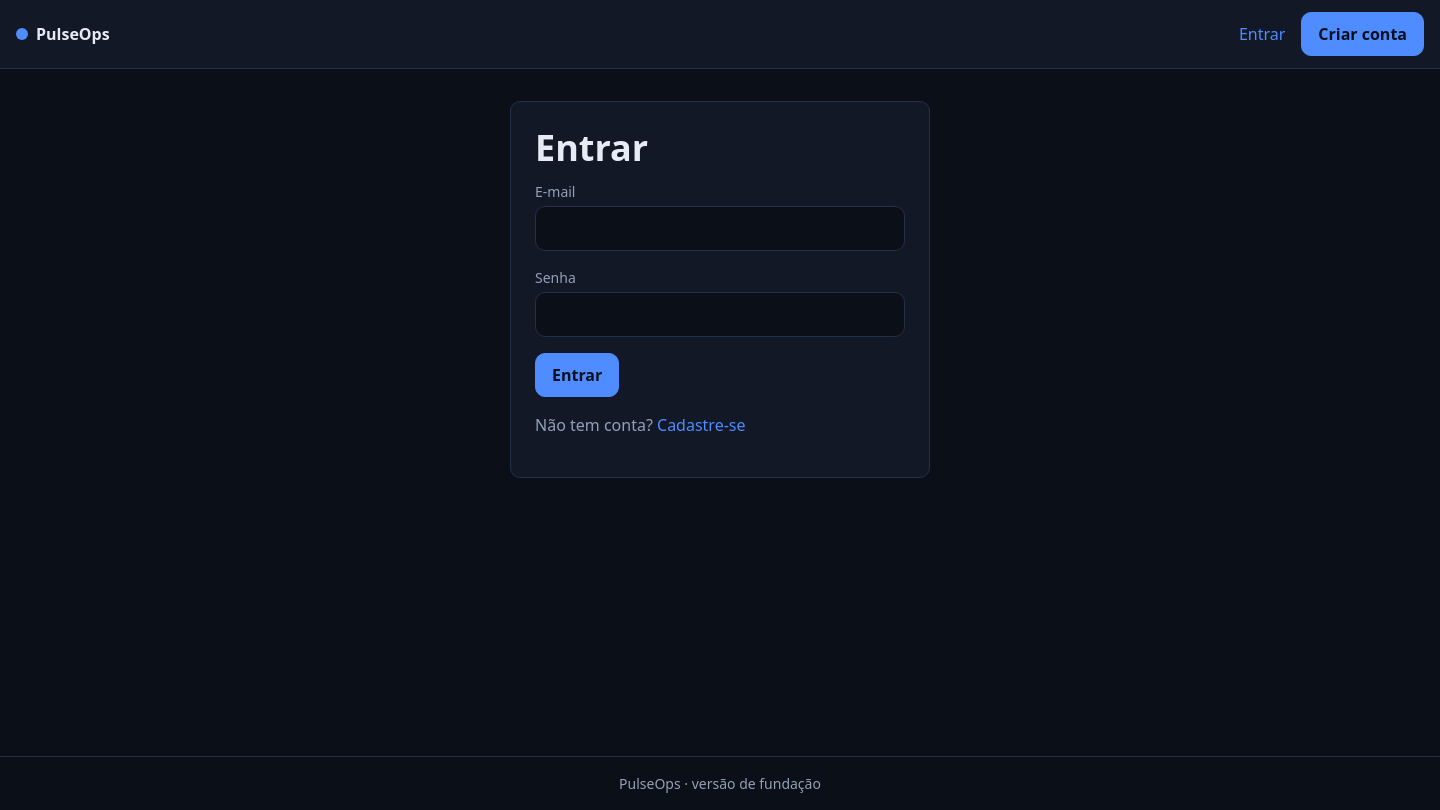
App › entra no painel após login válido
Type "ana@example.com" into the field labelled "E-mail".
click(720, 228); type("ana@example.com")  # box left=535, top=206, right=905, bottom=251
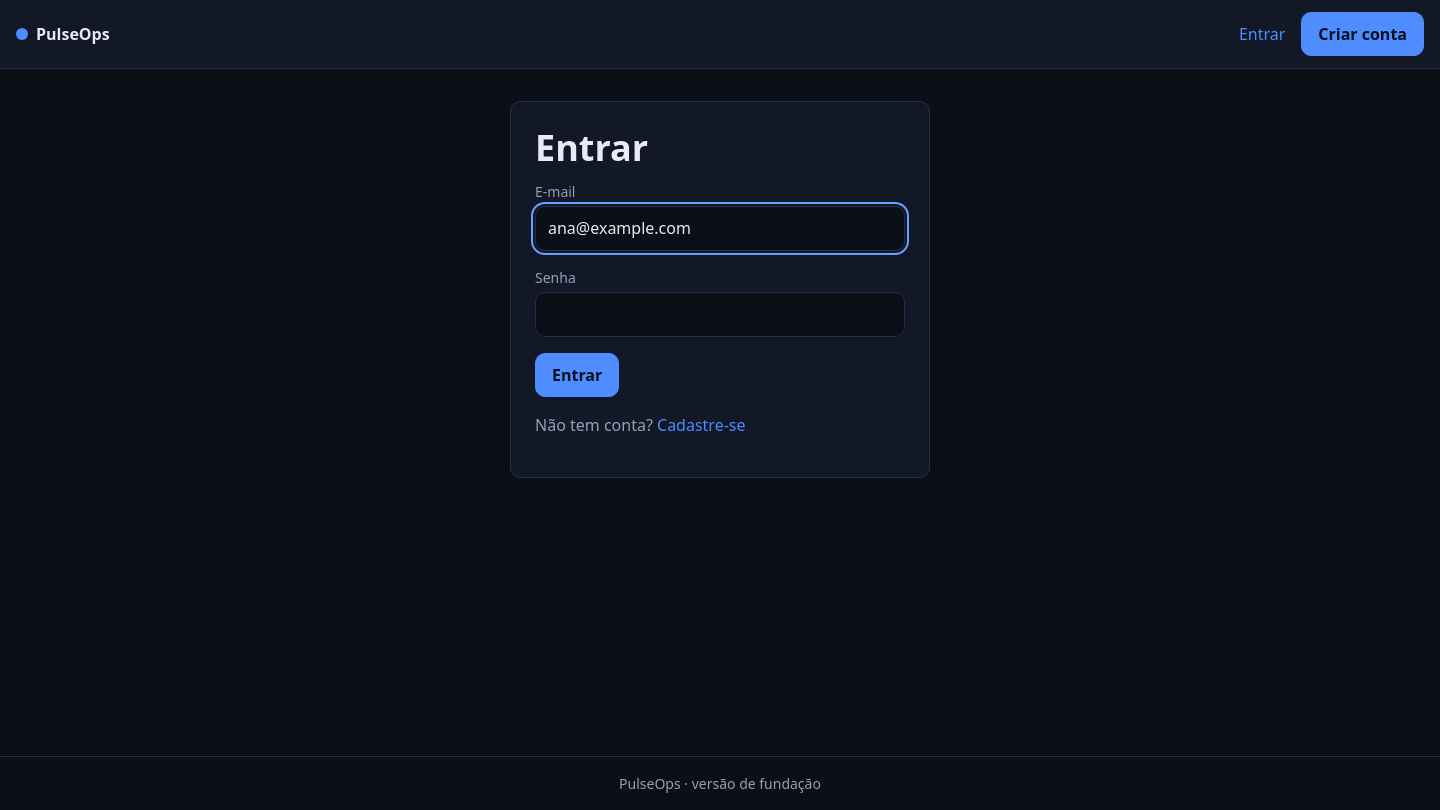
Type "senha-valida-123" into the password field labelled "Senha".
click(720, 315); type("senha-valida-123")  # box left=535, top=292, right=905, bottom=337
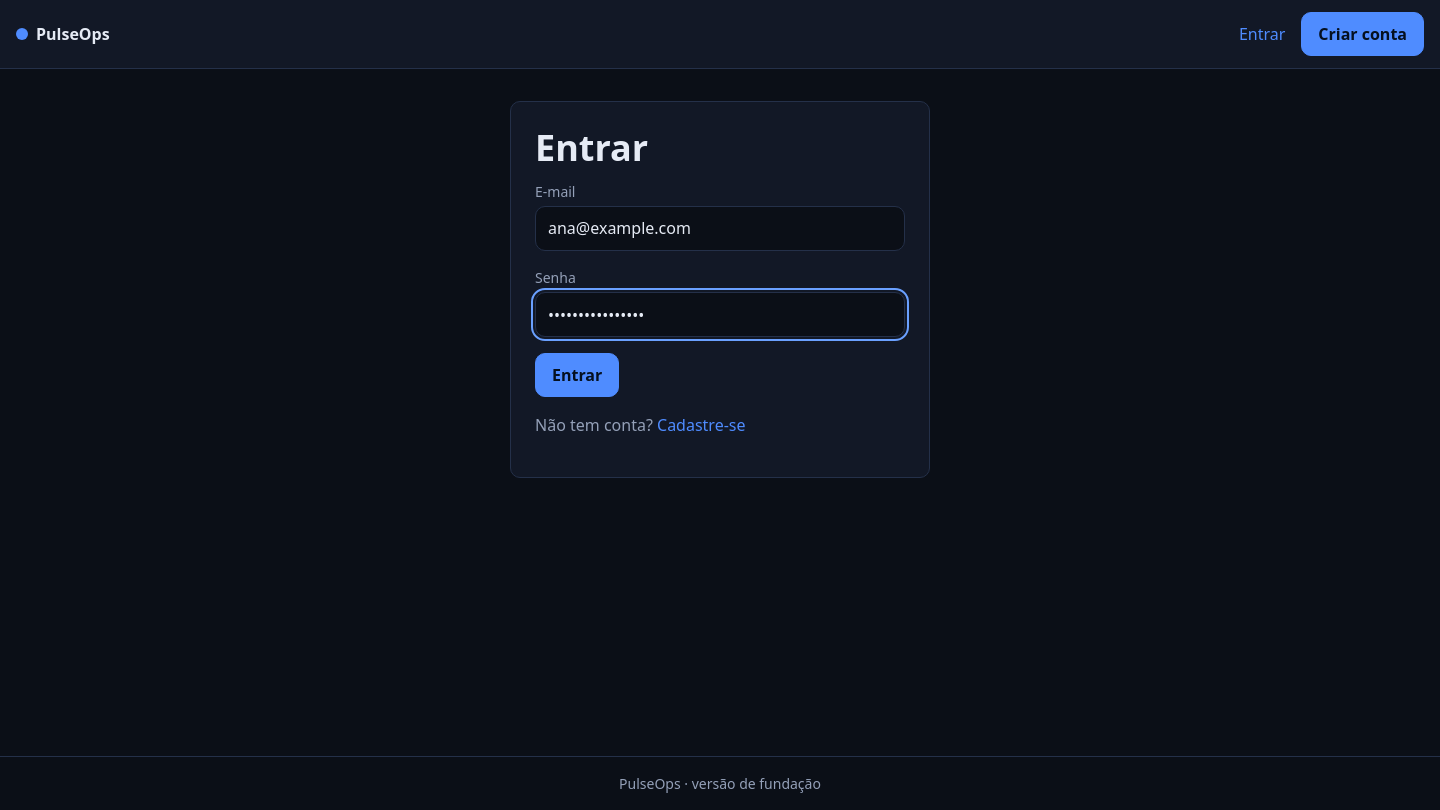
Click the button "Entrar".
click(577, 375)  # box left=535, top=353, right=619, bottom=397
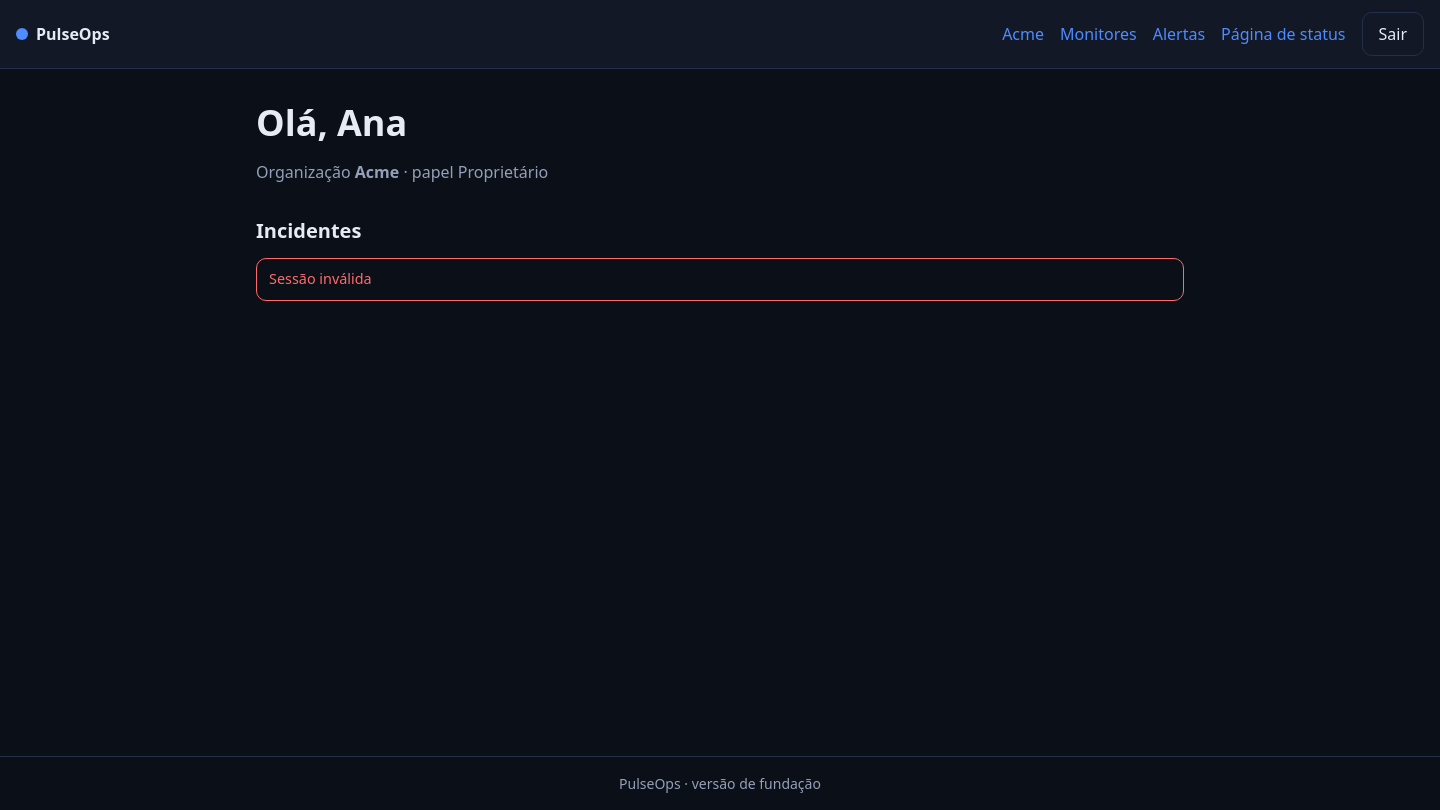
Result: the heading "Olá, Ana" is shown at left=256, top=98, right=407, bottom=147
